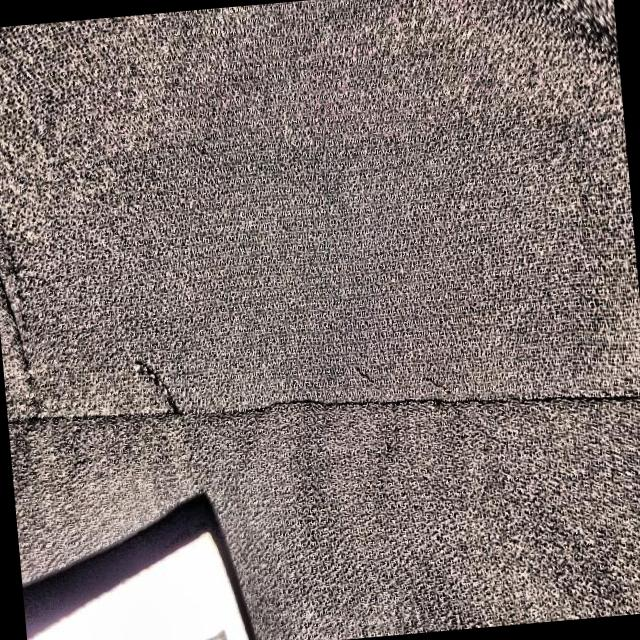gray stitch: (354, 341, 490, 442), (125, 347, 193, 442)
